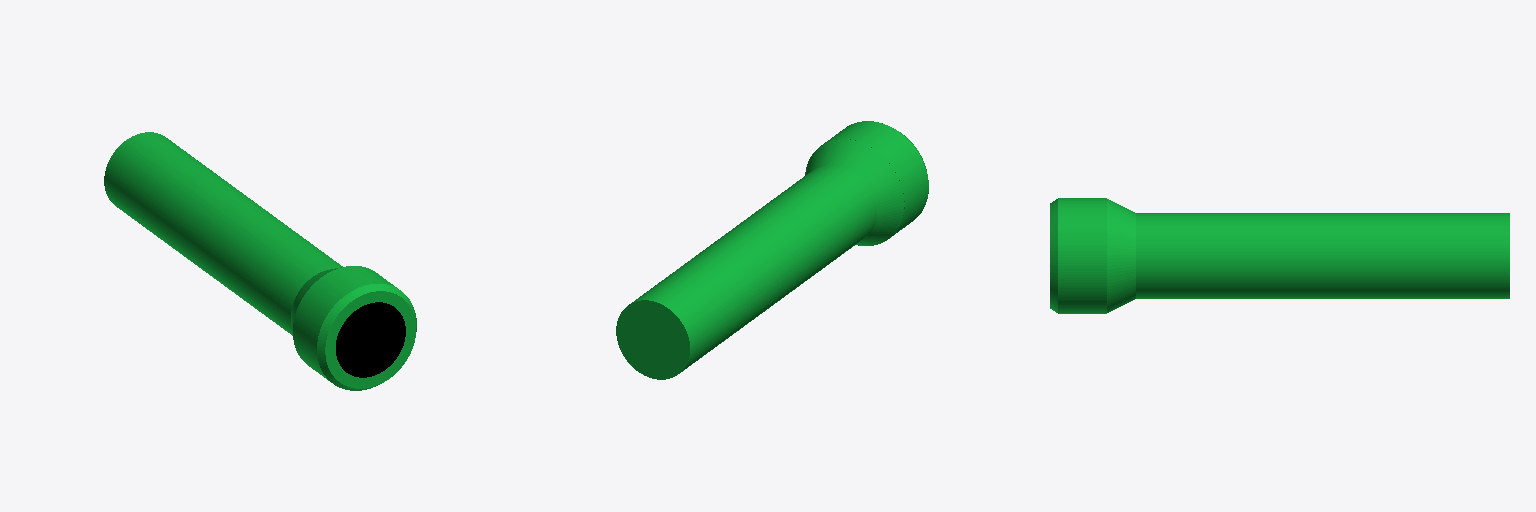
The model's file is tuyau.obj.
The picture shows the model from 3 angles: view 1: azimuth 30°, elevation 25°; view 2: azimuth 150°, elevation 25°; view 3: azimuth 270°, elevation 25°; orthographic projection.
Visible parts, largest first — view 1: Object.2, Object.5, Object.4, Object.3; view 2: Object.2, Object.1, Object.3; view 3: Object.2, Object.3, Object.1, Object.5.
Part boxes in pixels (x1,y1,x2,y2): Object.2: (104,132,342,335); Object.5: (317,284,416,390); Object.4: (336,302,405,377); Object.3: (293,266,396,385); Object.2: (616,164,876,379); Object.1: (805,139,904,245); Object.3: (806,121,928,245); Object.2: (1136,213,1509,298); Object.3: (1058,198,1106,313); Object.1: (1107,199,1135,312); Object.5: (1050,199,1057,312).
Size of the model in its own units: 54 by 54 by 215.